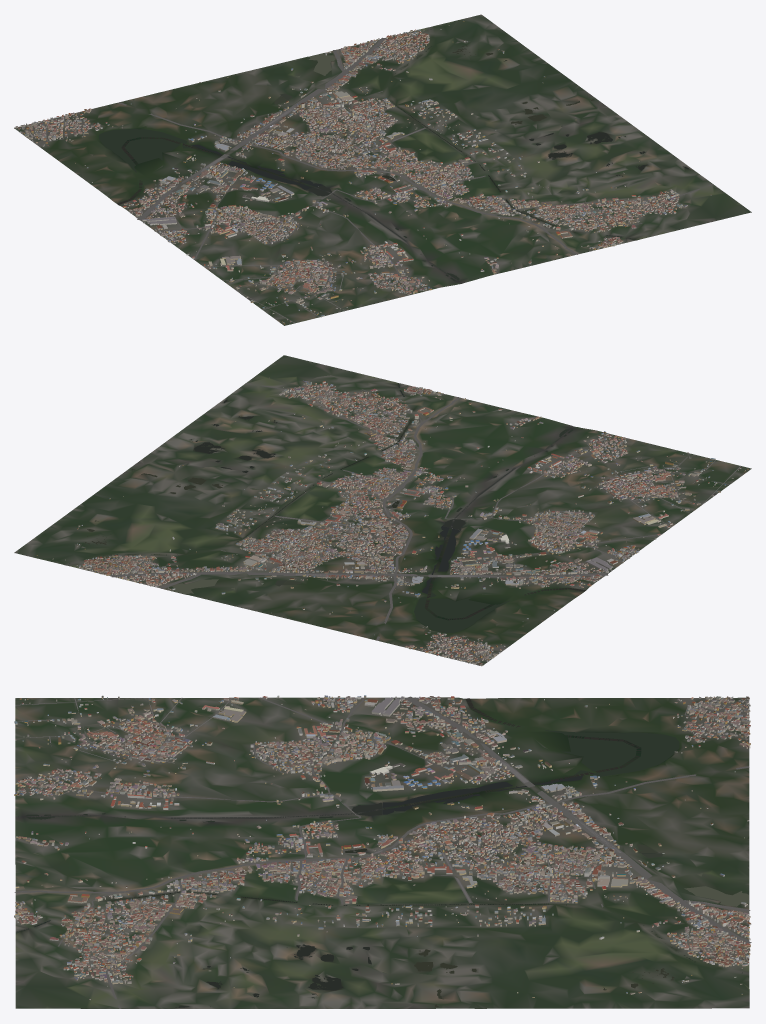
3 renders of one model, top to bottom at view 1: azimuth 30°, elevation 25°; view 2: azimuth 150°, elevation 25°; view 3: azimuth 270°, elevation 25°, orthographic. The views are drawn at different scales.
Visible parts, largest first — view 1: ground, buildings, water, roads; view 2: ground, buildings, water, roads; view 3: ground, buildings, water, roads.
Boxes of the visible parts, box(x1,y1,x2,y2) form: ground: box(14, 14, 751, 325); buildings: box(14, 20, 711, 324); water: box(99, 29, 690, 282); roads: box(40, 37, 713, 322); ground: box(14, 355, 751, 665); buildings: box(36, 377, 748, 665); water: box(69, 383, 585, 632); roads: box(111, 383, 740, 659); ground: box(15, 697, 749, 1008); buildings: box(14, 695, 751, 999); water: box(17, 698, 748, 1007); roads: box(14, 696, 751, 1008).
Bounding box in the file's own units: 2814 × 33.9 × 2819.
